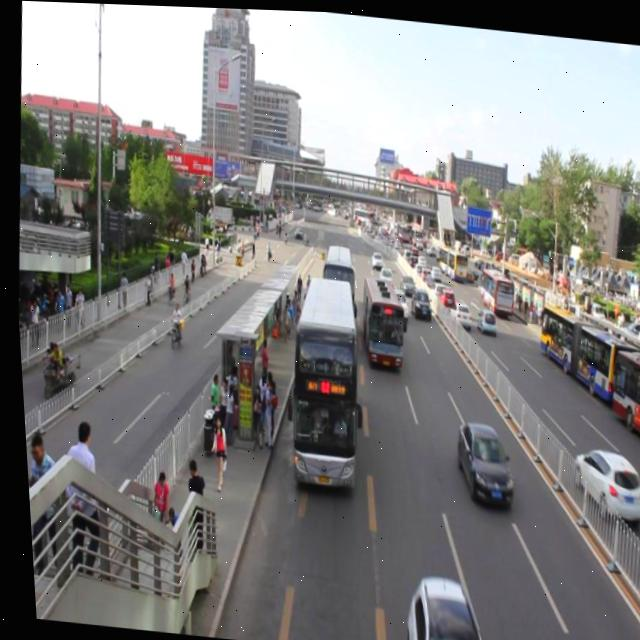car: (440, 404, 518, 512), (386, 570, 495, 640), (400, 279, 433, 317), (382, 282, 409, 325), (370, 256, 394, 286), (392, 267, 415, 294)
van: (270, 268, 374, 504), (348, 268, 409, 369), (310, 234, 361, 326)
